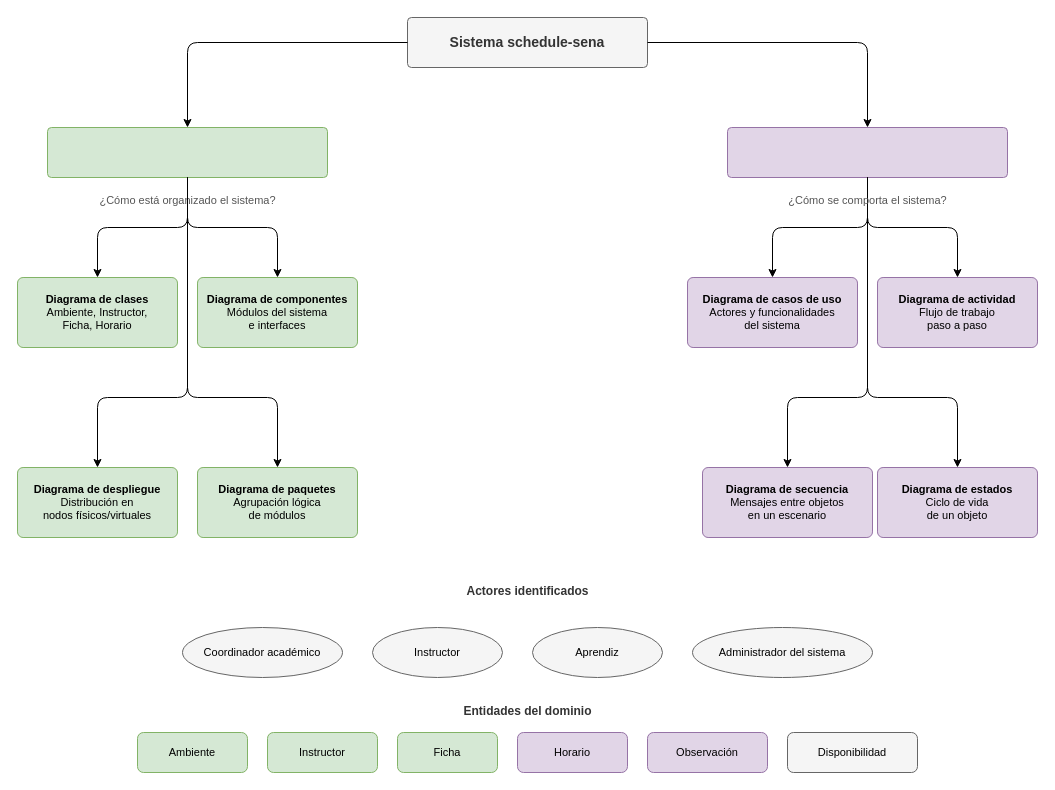
This 1055x790 diagram has some shape labels left out. The shapes that lost their labels are listed below. From the top down, each one's box as (x1, y1, x2, y2) in pixels, then its label:
(46, 126, 328, 178): Diagramas estáticos
(726, 126, 1008, 178): Diagramas dinámicos
